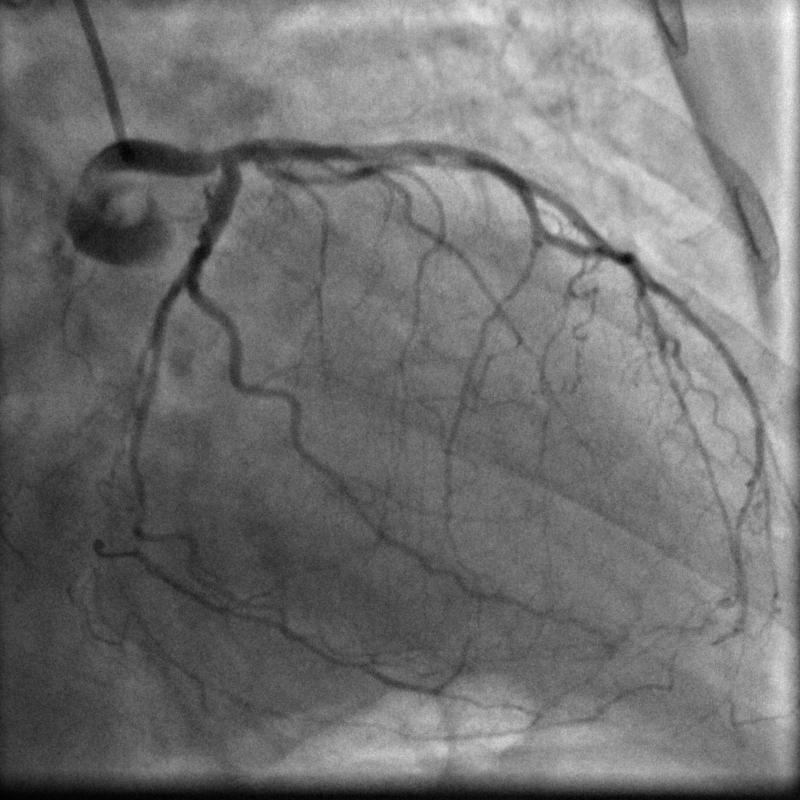Stenosis: (398, 138, 463, 162)
